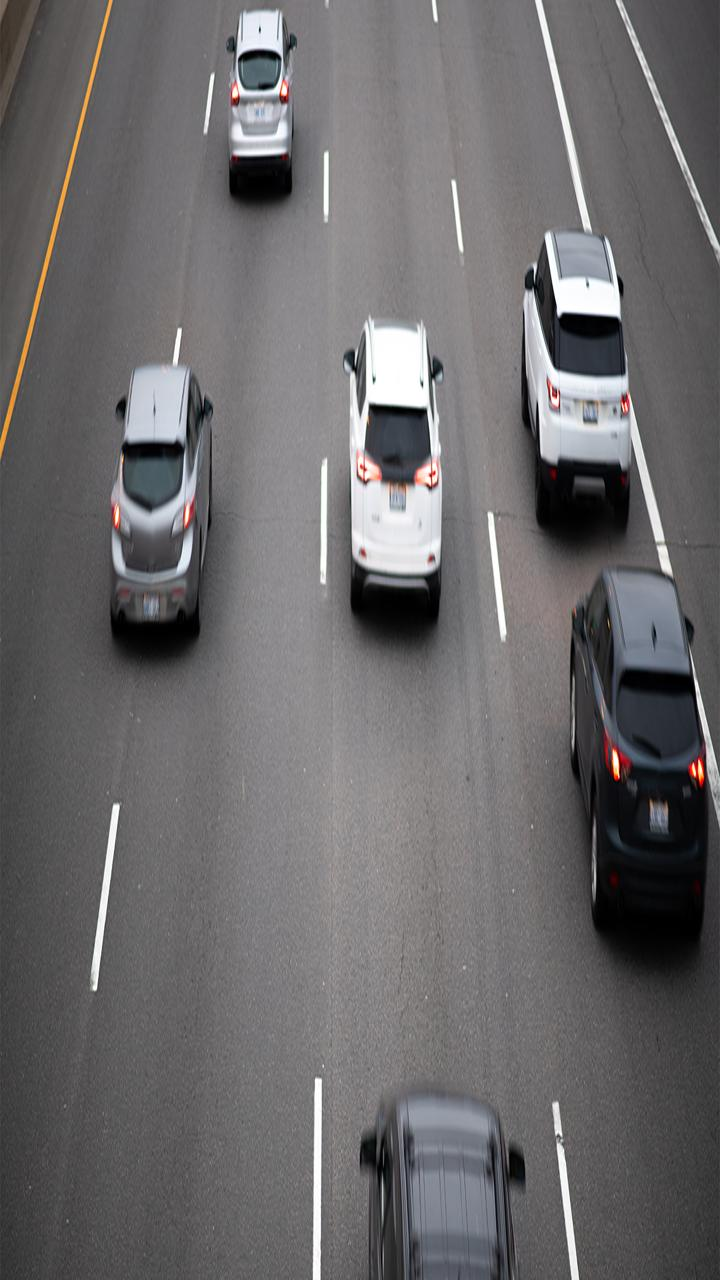vehicle: (562, 561, 716, 960), (98, 351, 236, 661), (519, 219, 640, 551), (362, 1059, 543, 1280), (339, 311, 451, 613), (216, 8, 332, 207)
